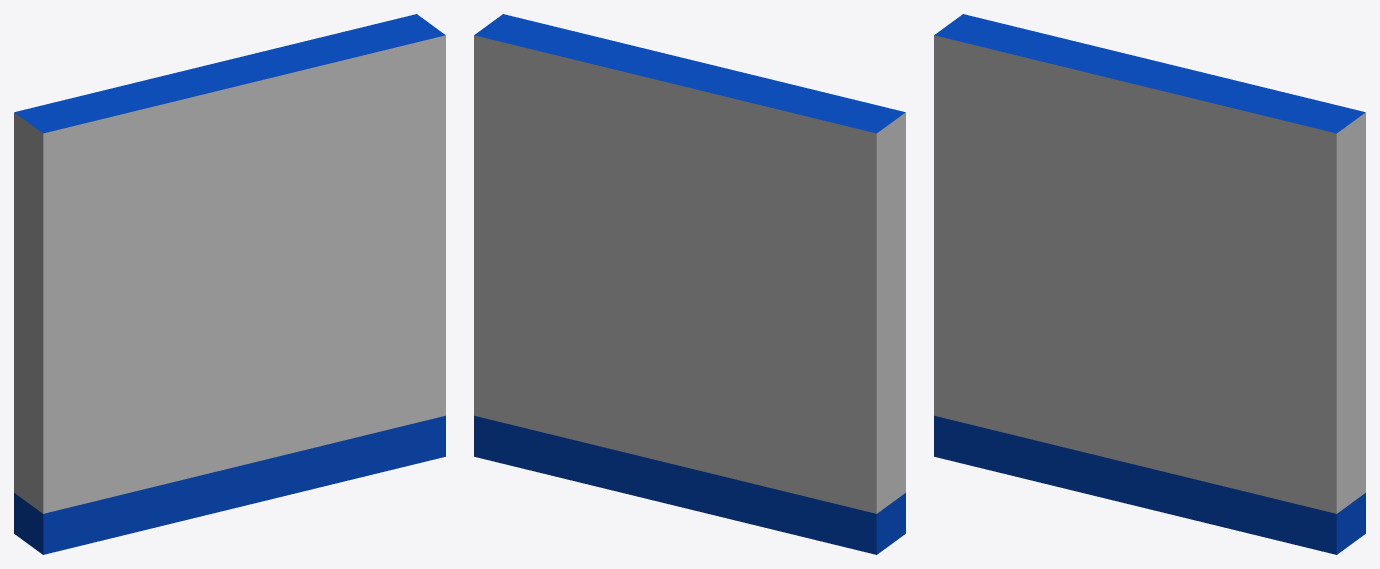
File: wall.obj
3 renders of one model, left to right at view 1: azimuth 30°, elevation 25°; view 2: azimuth 150°, elevation 25°; view 3: azimuth 330°, elevation 25°, orthographic.
Parts seen in each view (by area): view 1: Cube_Cube.001_Material.002, Cube_Cube.001_Material.001; view 2: Cube_Cube.001_Material.002, Cube_Cube.001_Material.001; view 3: Cube_Cube.001_Material.002, Cube_Cube.001_Material.001.
Boxes of the visible parts, x1,y1,x2,y2 form: Cube_Cube.001_Material.002: (14,35,445,513); Cube_Cube.001_Material.001: (14,14,445,554); Cube_Cube.001_Material.002: (474,35,905,513); Cube_Cube.001_Material.001: (474,14,905,554); Cube_Cube.001_Material.002: (934,35,1365,513); Cube_Cube.001_Material.001: (934,14,1365,554).
Bounding box in the file's own units: 8 × 8 × 1.
